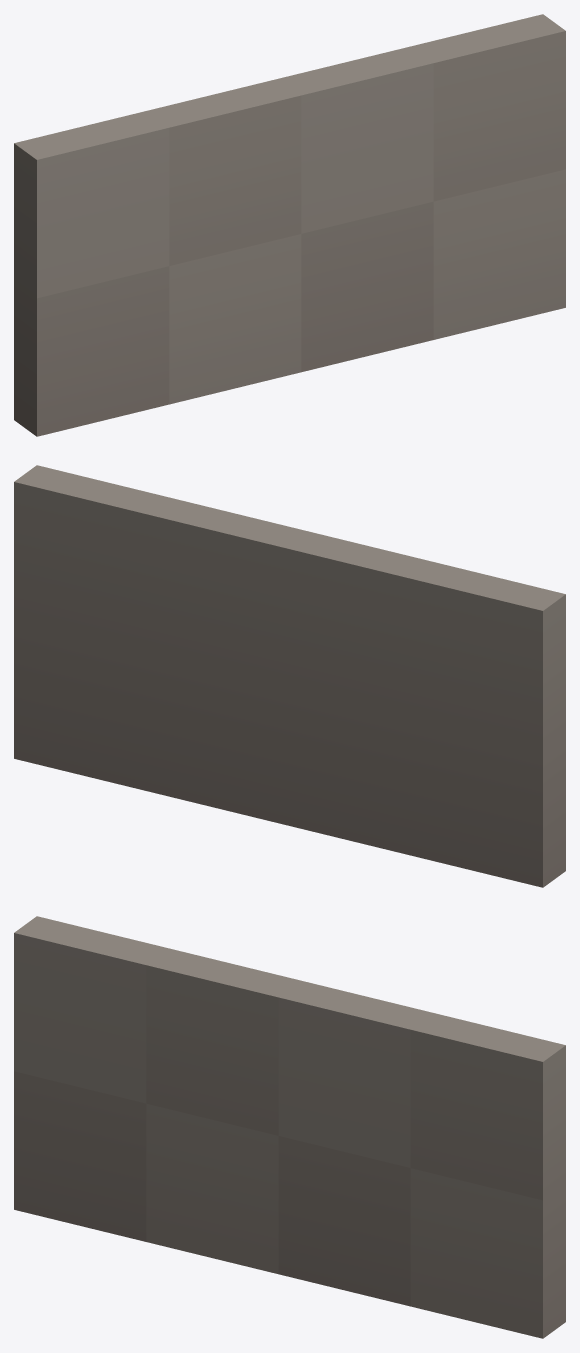
The model's file is wall_tiles_B.obj.
3 views of the same model, one above another, from view 1: azimuth 30°, elevation 25°; view 2: azimuth 150°, elevation 25°; view 3: azimuth 330°, elevation 25° (orthographic).
Parts seen in each view (by area): view 1: wall_tiles_B_Cube.437; view 2: wall_tiles_B_Cube.437; view 3: wall_tiles_B_Cube.437.
Boxes of the visible parts, bbox=[...] form: wall_tiles_B_Cube.437: bbox=[14, 14, 565, 436]; wall_tiles_B_Cube.437: bbox=[14, 465, 565, 887]; wall_tiles_B_Cube.437: bbox=[14, 916, 565, 1338].
Bounding box in the file's own units: 2 × 1 × 0.15.
1 material, 1 textured.
